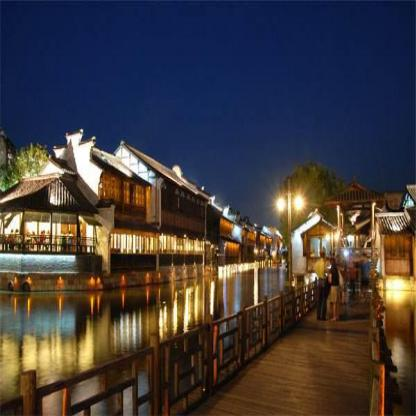other: (98, 222, 214, 254), (272, 188, 307, 224), (377, 271, 410, 308), (208, 262, 268, 274)
